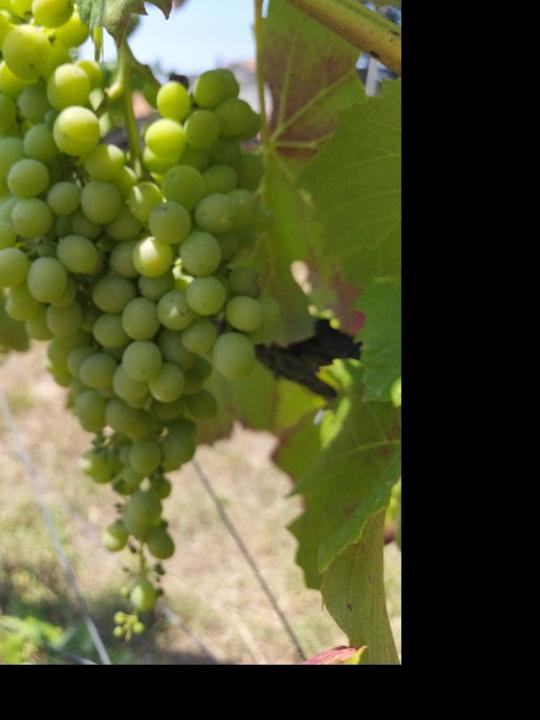grape: (0, 0, 264, 648)
